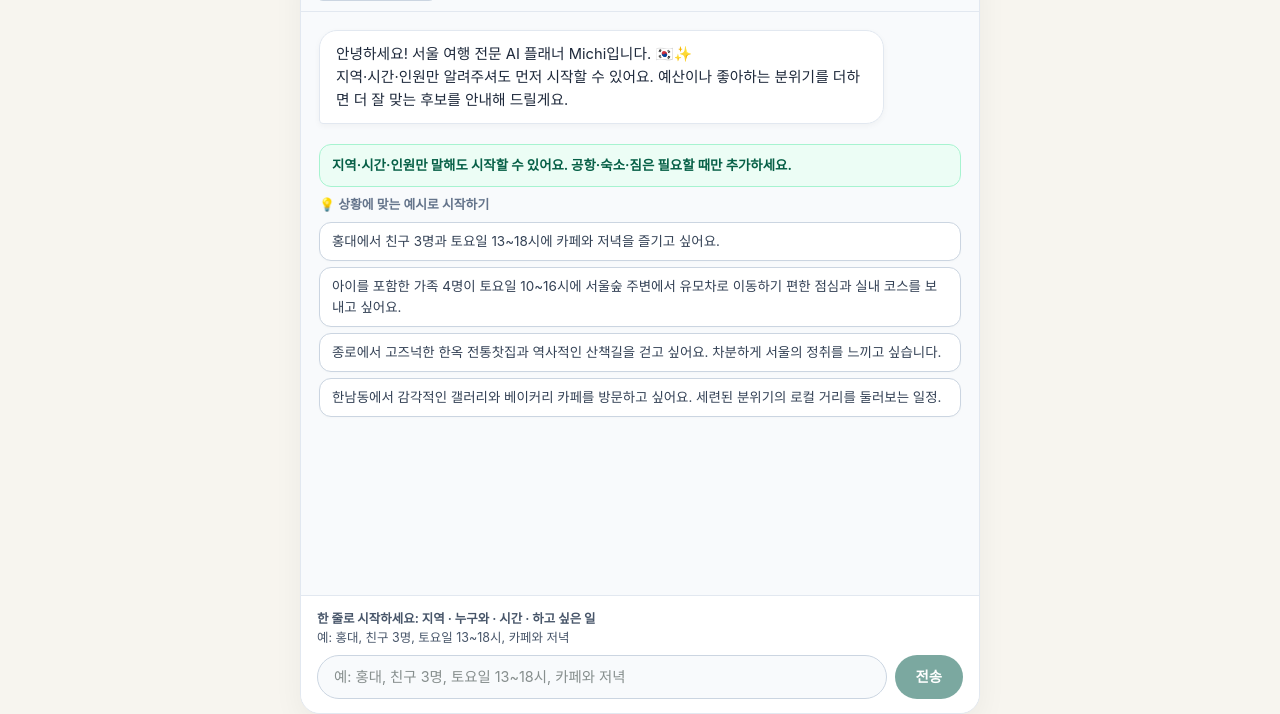
it: GenerativeChatPlanner › does not show a completion claim for an unresolved departure itinerary
(page scrolled)
In the field: (602, 677) [317,655,886,699], type "공항 이동 포함해서 짜줘"
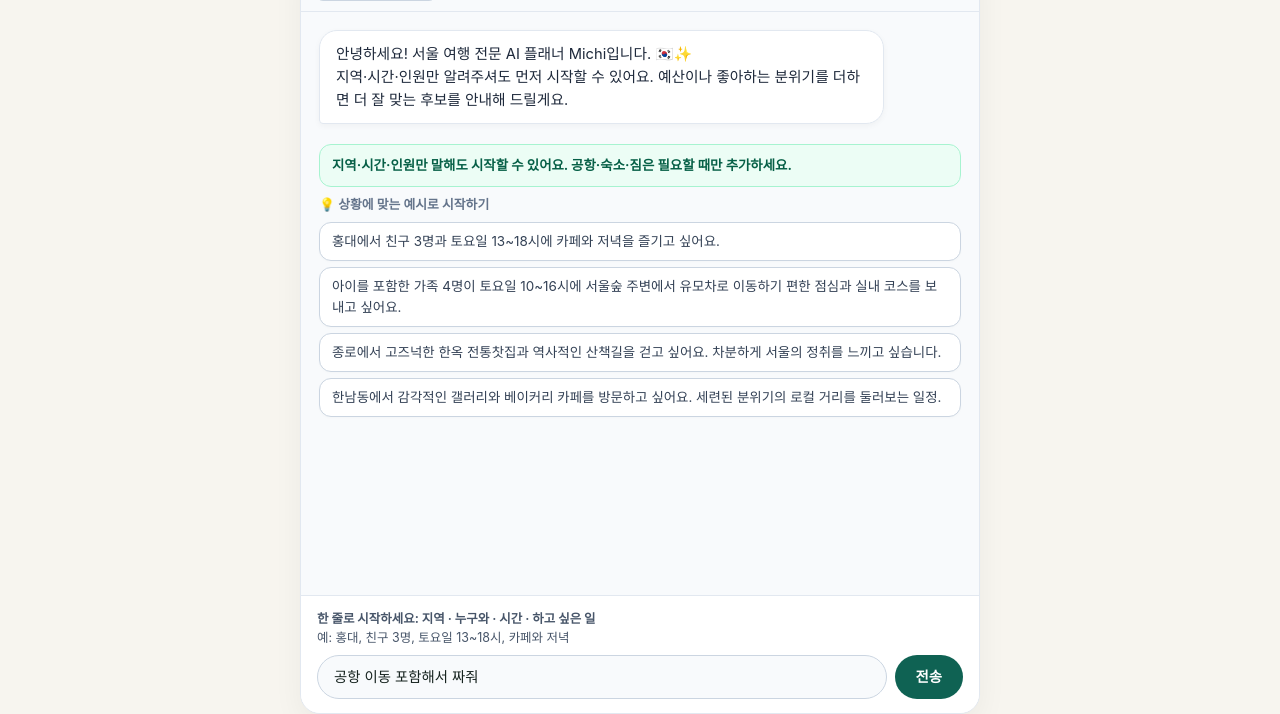
Click the button "전송": (929, 677) [894,655,963,699]
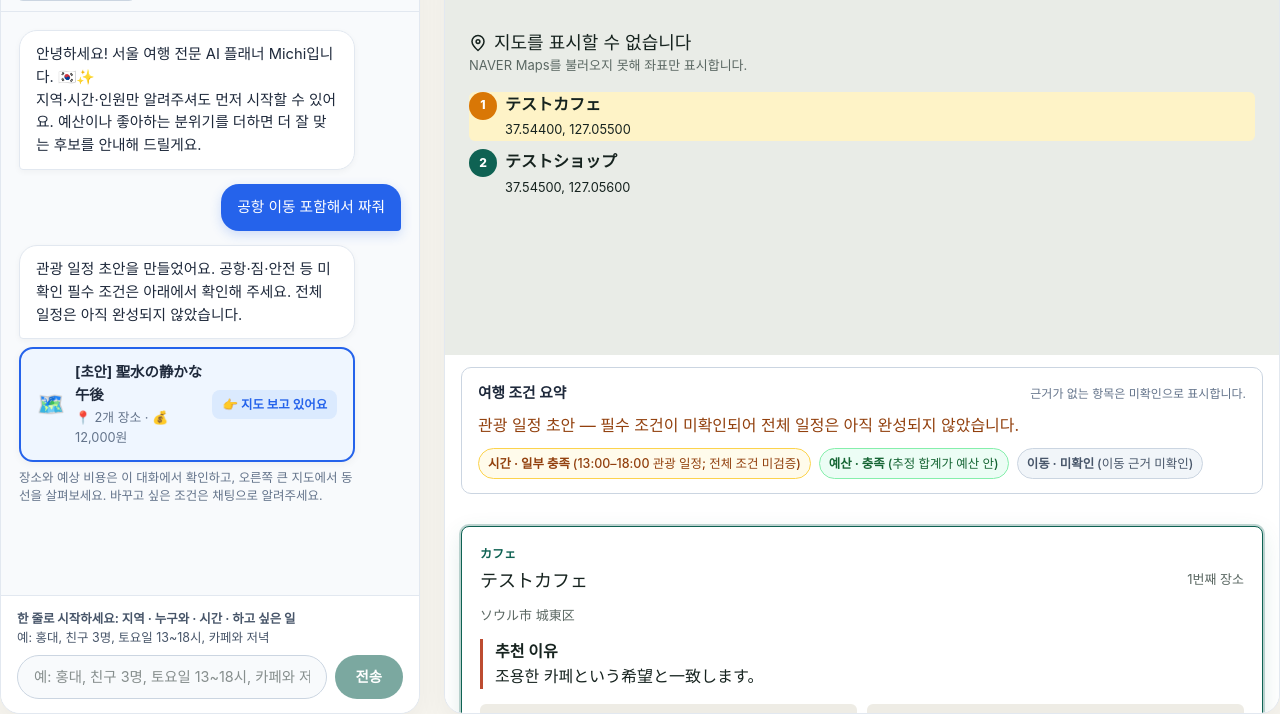
Expected: the text "공항·짐·안전 등 미확인 필수 조건" is shown, [36,260,331,324]
